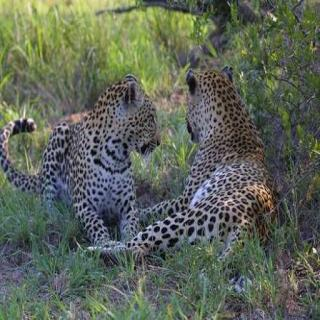Leopard: (38, 61, 162, 249), (172, 64, 270, 256)
